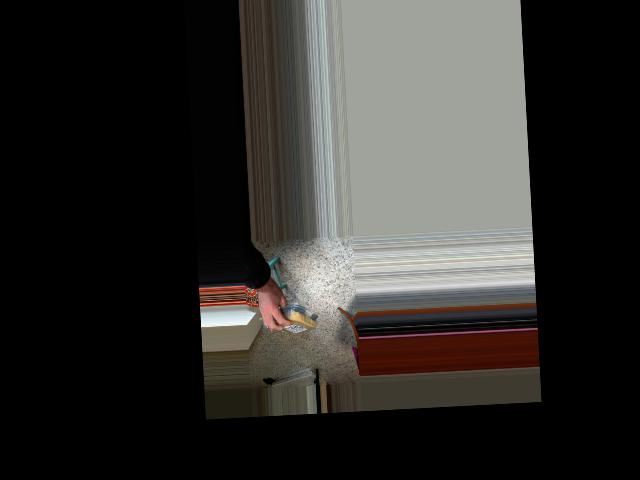cheese: (265, 302, 320, 337)
